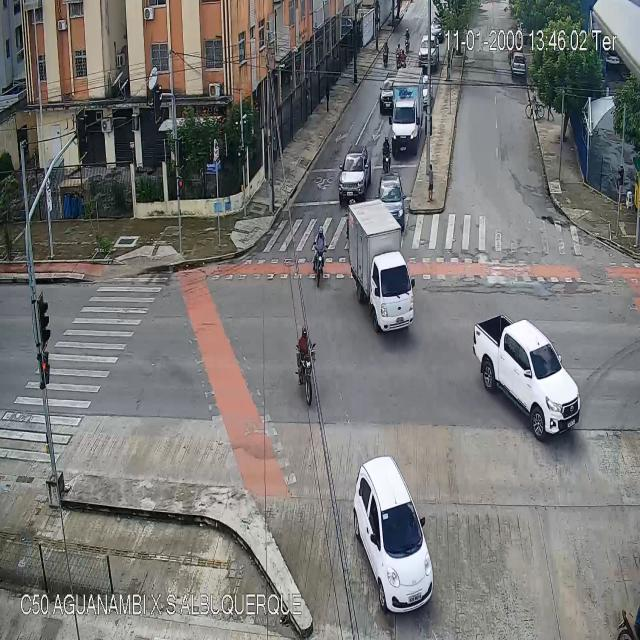Car: (473, 315, 582, 442), (354, 458, 434, 615), (339, 147, 370, 201), (378, 178, 404, 231), (418, 35, 440, 69), (379, 76, 394, 114), (512, 52, 526, 72)
Motorcycle: (296, 327, 316, 406), (312, 227, 326, 290), (382, 137, 390, 174), (382, 39, 390, 67), (396, 42, 402, 69), (404, 27, 410, 52), (401, 49, 406, 67)
Truck: (348, 196, 416, 332), (389, 67, 424, 156)
